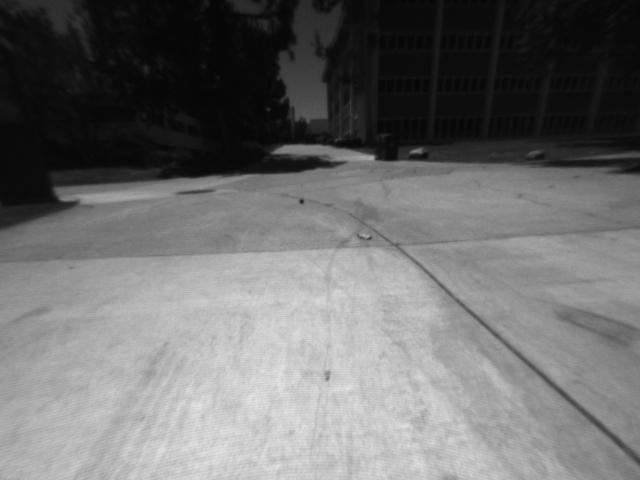dogtoy: (293, 193, 309, 209)
